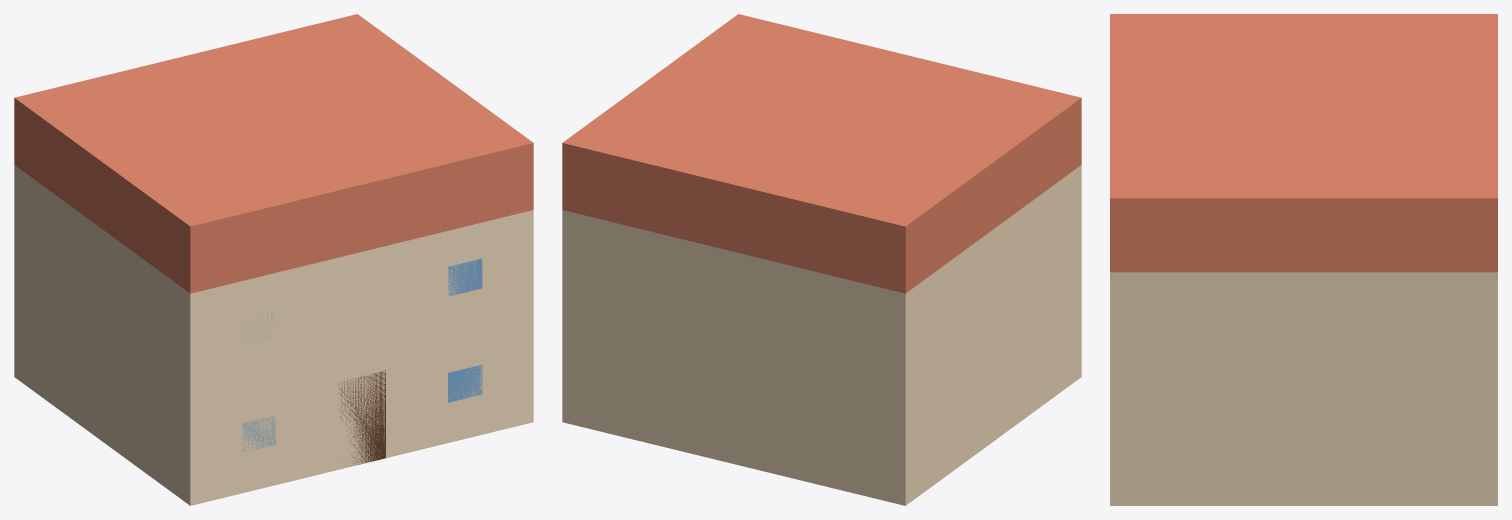
Rendered from gedung_kos.fbx.
The picture shows the model from 3 angles, left to right: view 1: azimuth 30°, elevation 25°; view 2: azimuth 150°, elevation 25°; view 3: azimuth 270°, elevation 25°; orthographic projection. The views are drawn at different scales.
Parts seen in each view (by area): view 1: gedung_kos; view 2: gedung_kos; view 3: gedung_kos.
Boxes of the visible parts, x1,y1,x2,y2 form: gedung_kos: (14, 14, 533, 505); gedung_kos: (562, 14, 1081, 505); gedung_kos: (1110, 14, 1497, 505).
Bounding box in the file's own units: 900 × 700 × 800.
1 material, 1 textured.
